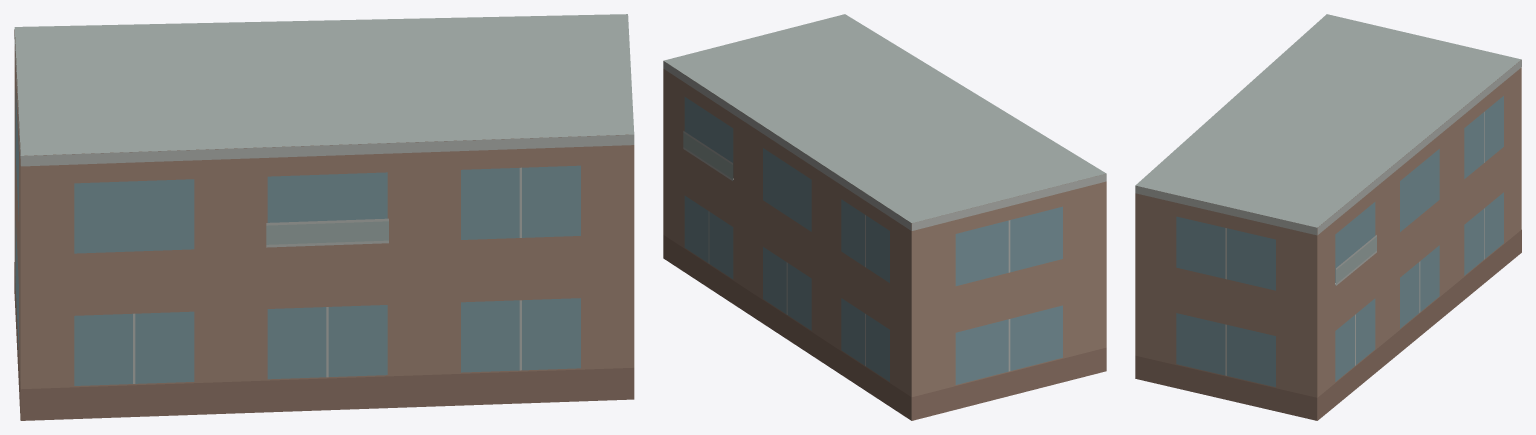
The model's file is survey-upis-32646638.glb.
3 renders of one model, left to right at view 1: azimuth 30°, elevation 25°; view 2: azimuth 150°, elevation 25°; view 3: azimuth 270°, elevation 25°, orthographic. The views are drawn at different scales.
Parts seen in each view (by area): view 1: survey-upis-32646638.tmp; view 2: survey-upis-32646638.tmp; view 3: survey-upis-32646638.tmp.
Part boxes in pixels (left/top/right/bottom): survey-upis-32646638.tmp: left=14, top=14, right=634, bottom=420; survey-upis-32646638.tmp: left=663, top=14, right=1106, bottom=420; survey-upis-32646638.tmp: left=1135, top=14, right=1521, bottom=420.
Bounding box in the file's own units: 14.49 × 6.1 × 11.07.
